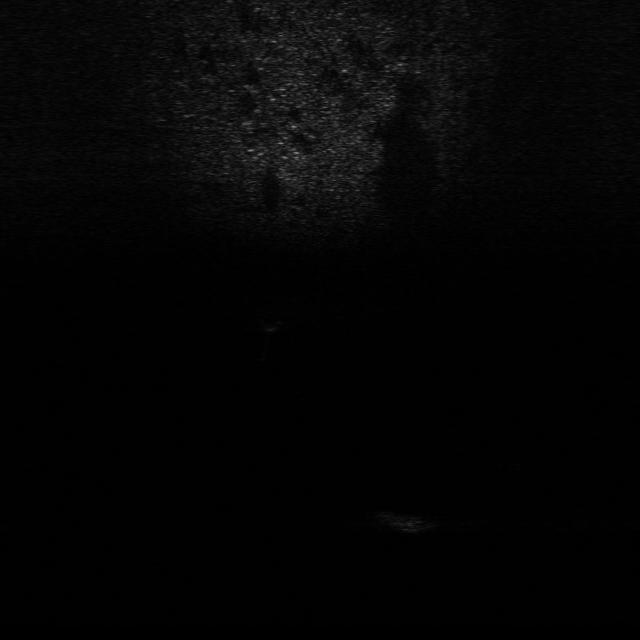ball: (252, 311, 288, 334)
metal bucket: (372, 506, 442, 534)
